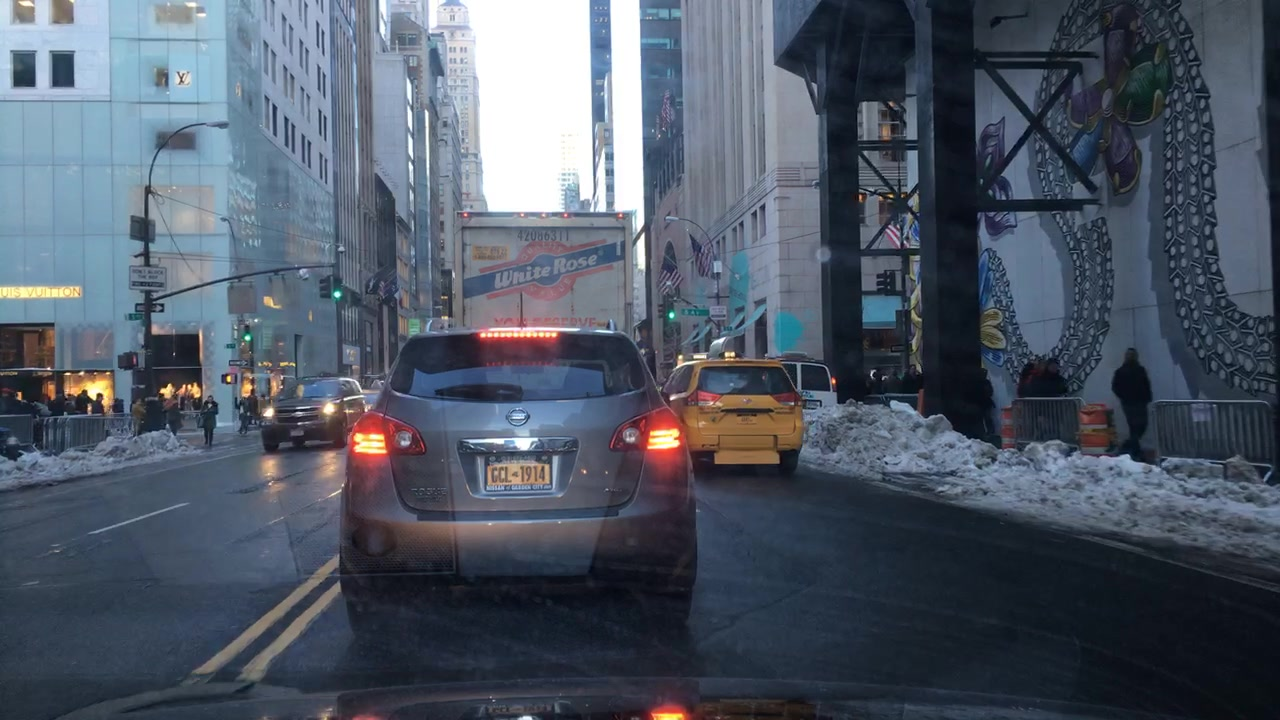licence: (482, 451, 555, 494)
